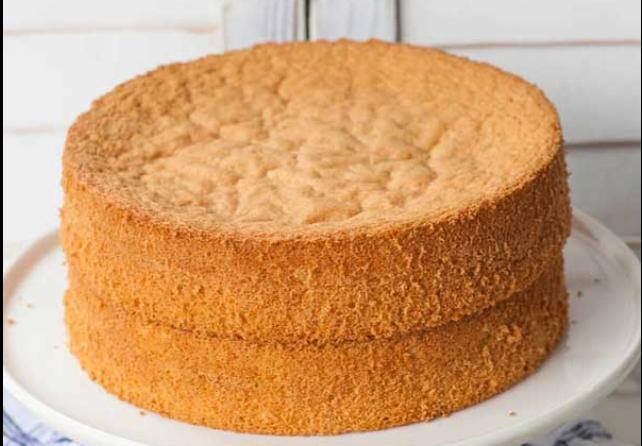Sponge Cake: (37, 39, 586, 430)
